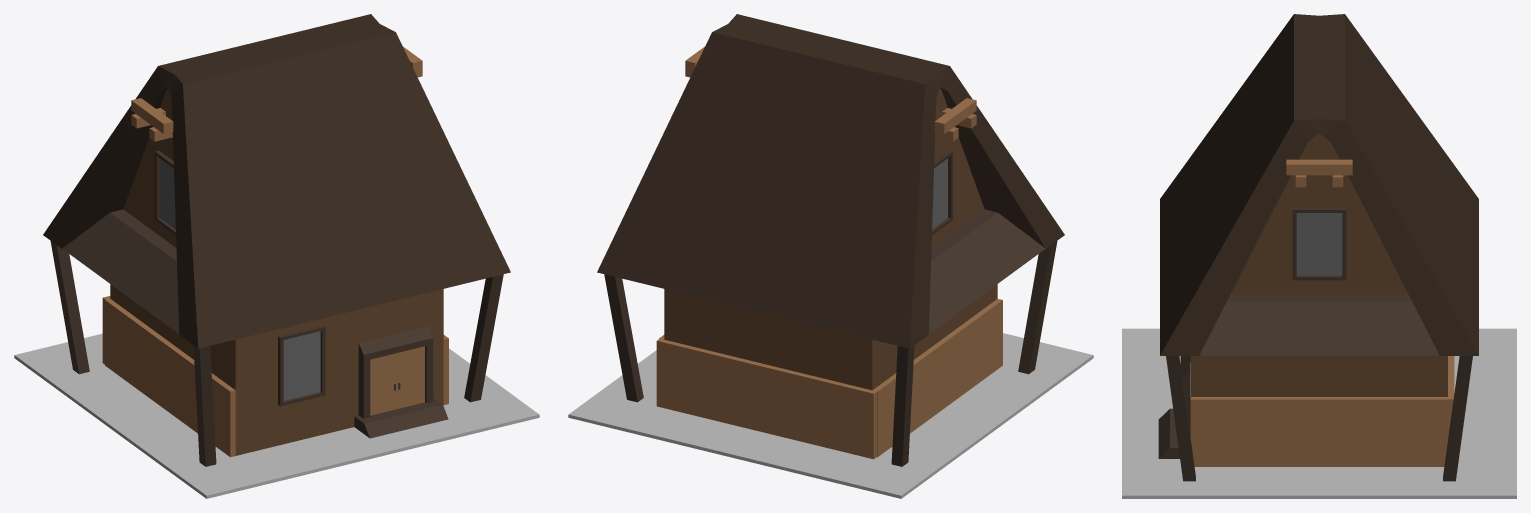
The model's file is house_medium.fbx.
The picture shows the model from 3 angles, left to right: view 1: azimuth 30°, elevation 25°; view 2: azimuth 150°, elevation 25°; view 3: azimuth 270°, elevation 25°; orthographic projection. The views are drawn at different scales.
Parts seen in each view (by area): view 1: house_medium; view 2: house_medium; view 3: house_medium.
Part boxes in pixels (x1,y1,x2,y2): house_medium: (14,14,539,498); house_medium: (568,14,1093,498); house_medium: (1122,14,1516,498).
Size of the model in its own units: 15.77 by 15.35 by 15.77.
